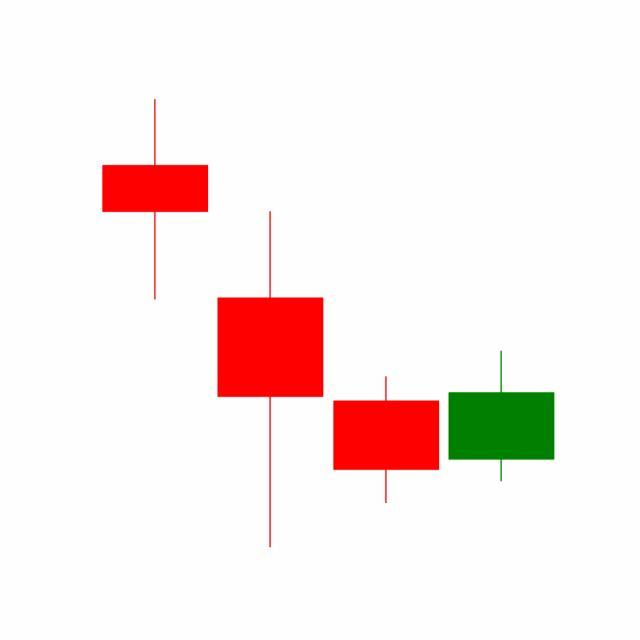Upside-Downside Gap Three Methods: (211, 207, 555, 549)
